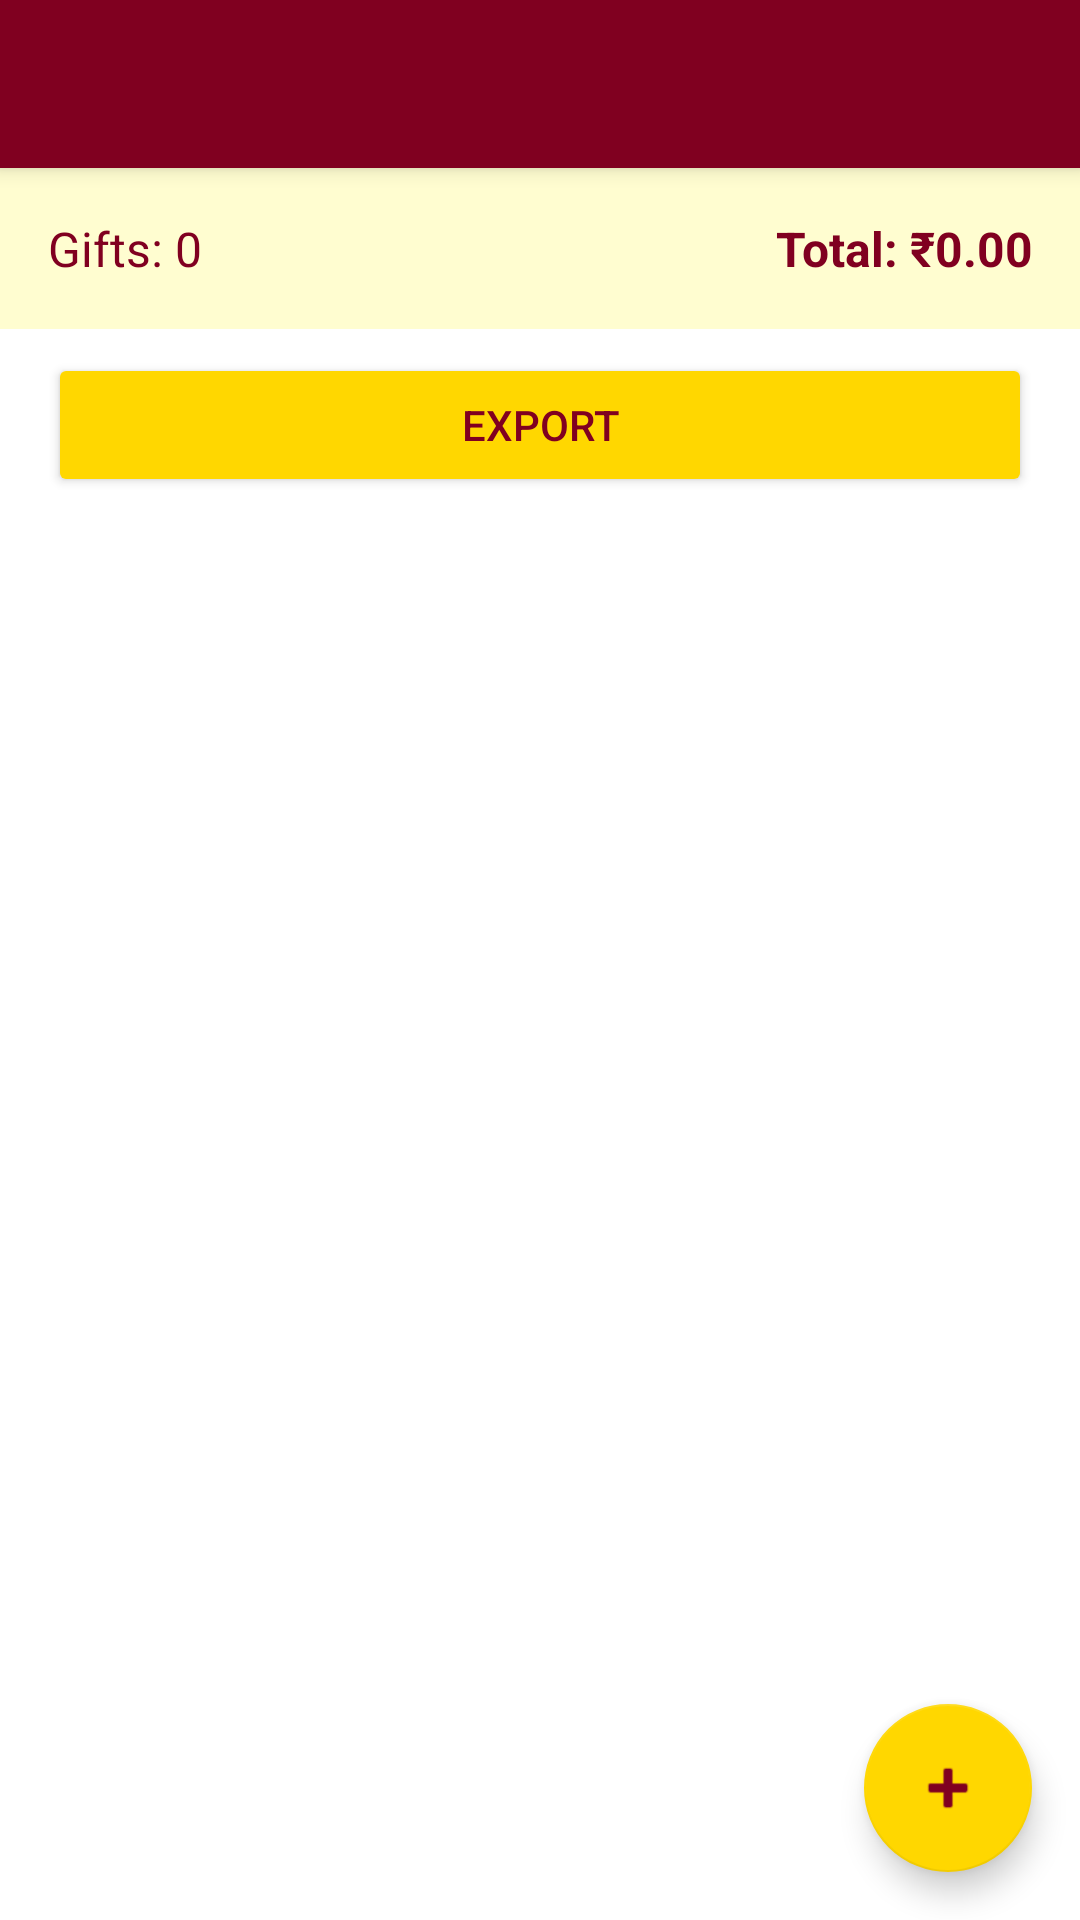

Icon click points for this 1080x1920 phone screenshot, format (x,y):
Add Gift: (948,1788)
